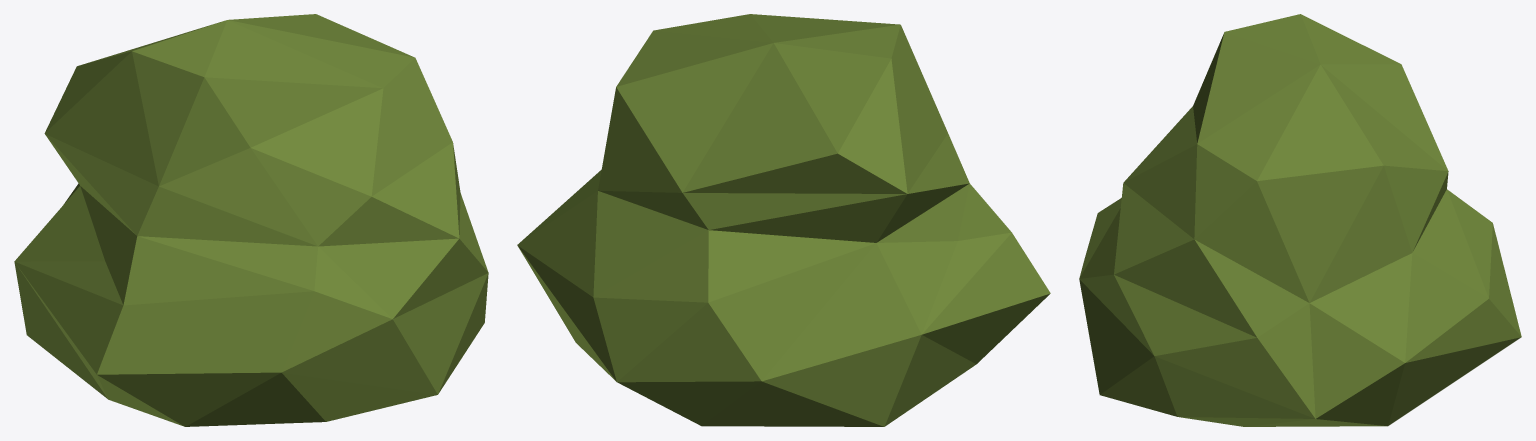
Rendered from Bush_1.fbx.
The picture shows the model from 3 angles, left to right: view 1: azimuth 30°, elevation 25°; view 2: azimuth 150°, elevation 25°; view 3: azimuth 270°, elevation 25°; orthographic projection. The views are drawn at different scales.
Parts seen in each view (by area): view 1: Bush_1; view 2: Bush_1; view 3: Bush_1.
Part boxes in pixels (x1=…): Bush_1: x1=14, y1=14, x2=488, y2=426; Bush_1: x1=517, y1=14, x2=1050, y2=426; Bush_1: x1=1079, y1=14, x2=1521, y2=426.
Bounding box in the file's own units: 150 × 105 × 145.
